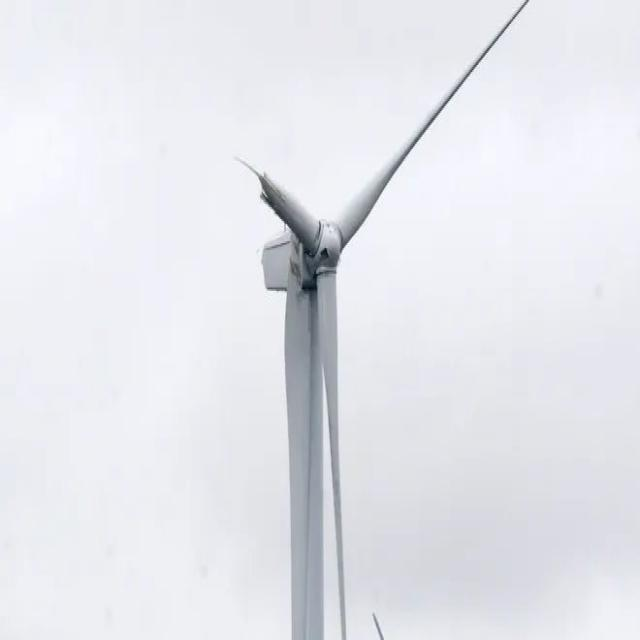damaged-blade: (238, 160, 320, 251)
